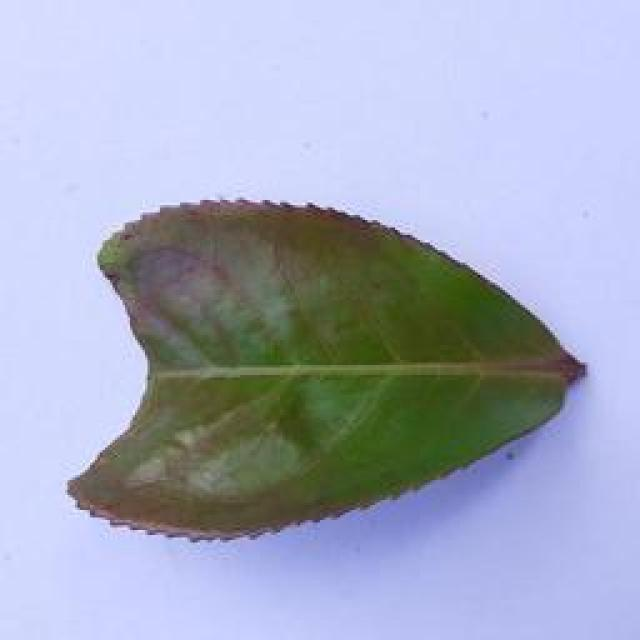Red Leaf Spot: (75, 185, 590, 549)
